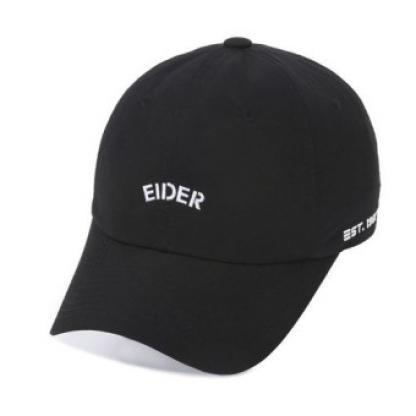cap: (42, 31, 390, 382)
